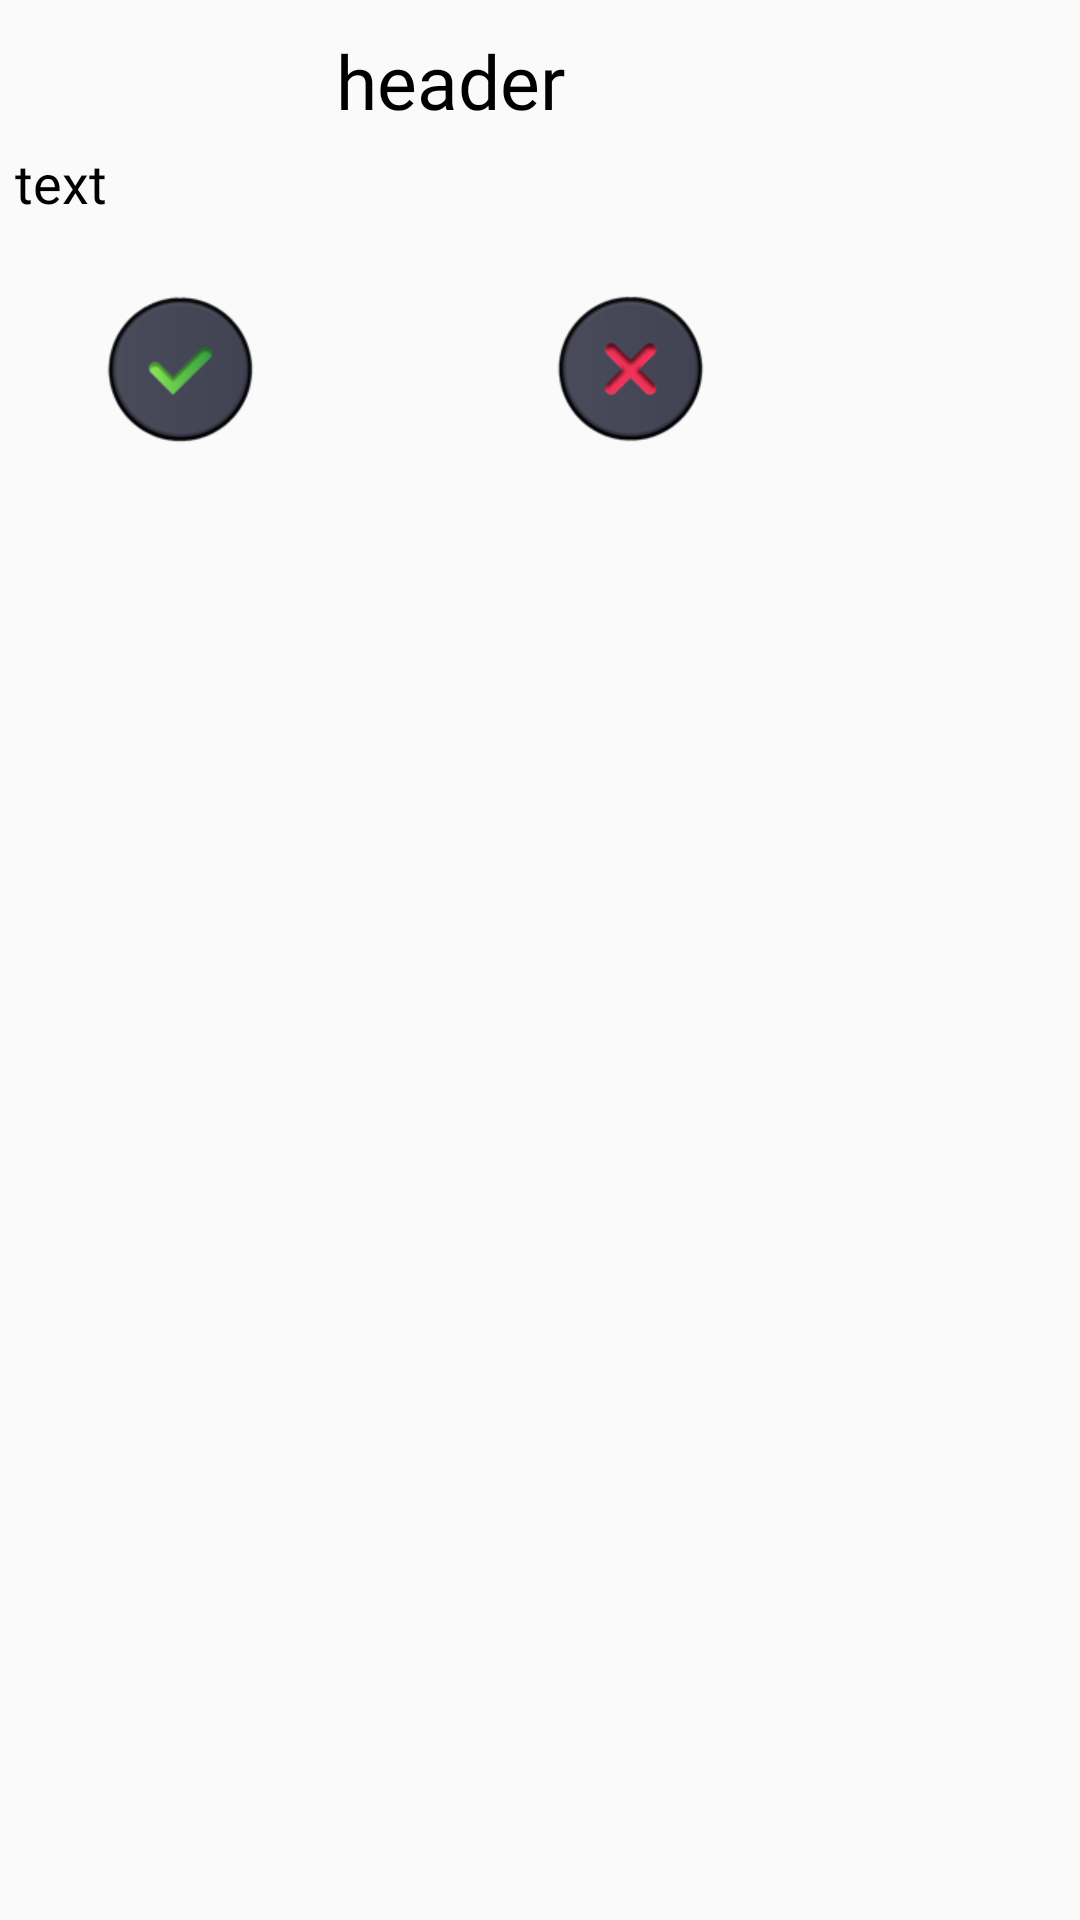

Where icons sit on this 1080w x 1920h app screen, as bbox=(x1, y1, x2, y2):
yes: bbox=(108, 297, 253, 442)
